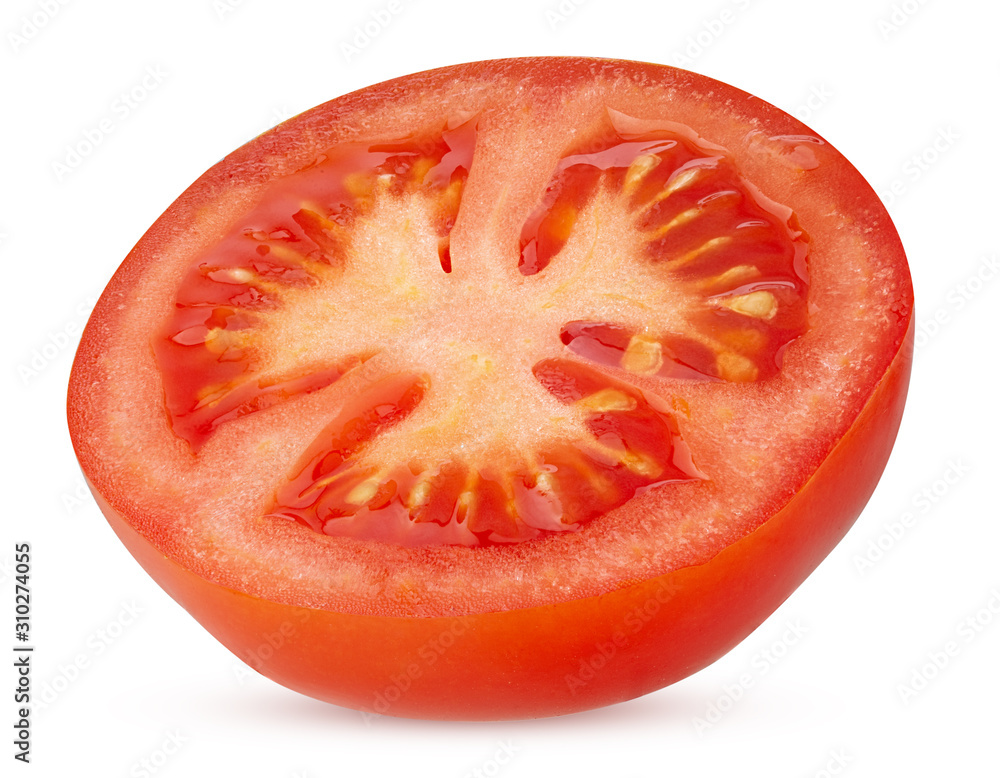tomato: (65, 56, 916, 719)
